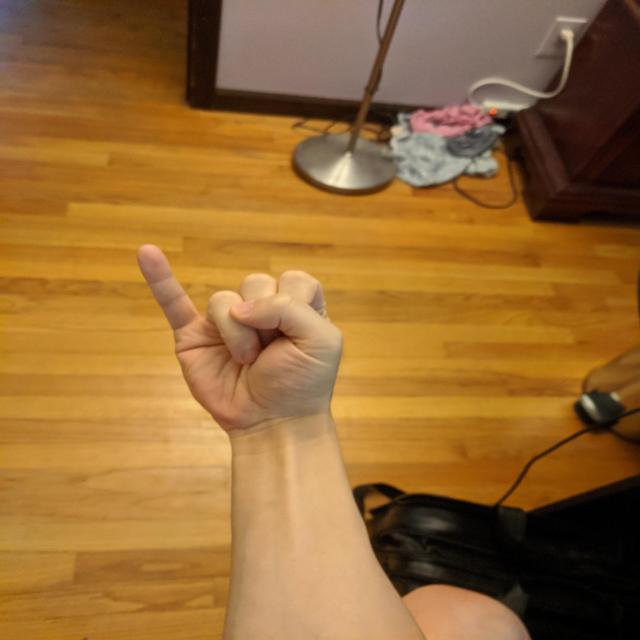I: (130, 240, 351, 439)
